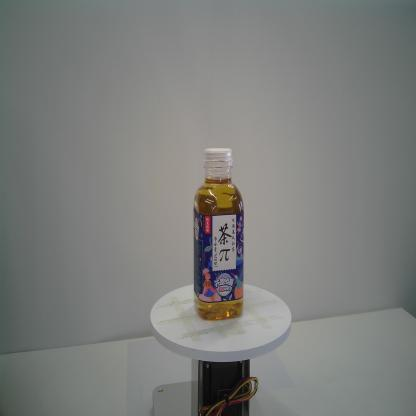Drink: (192, 146, 245, 321)
